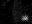person: (21, 14, 29, 21)
